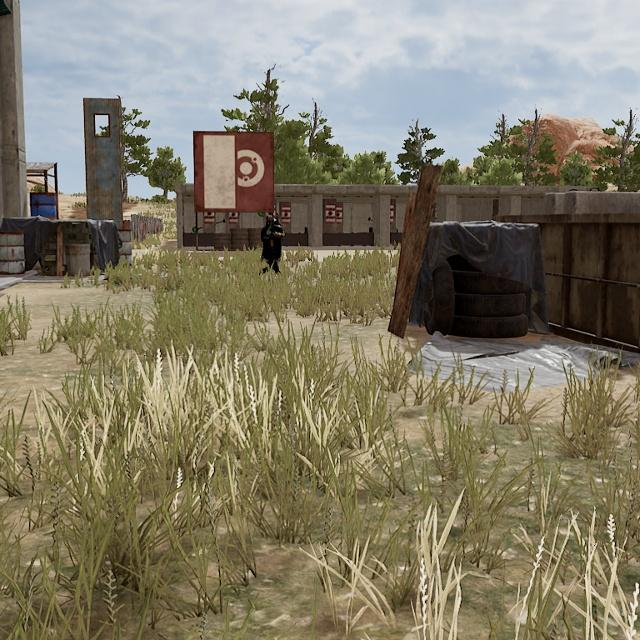head: (264, 214, 275, 227)
people: (260, 214, 285, 277)
